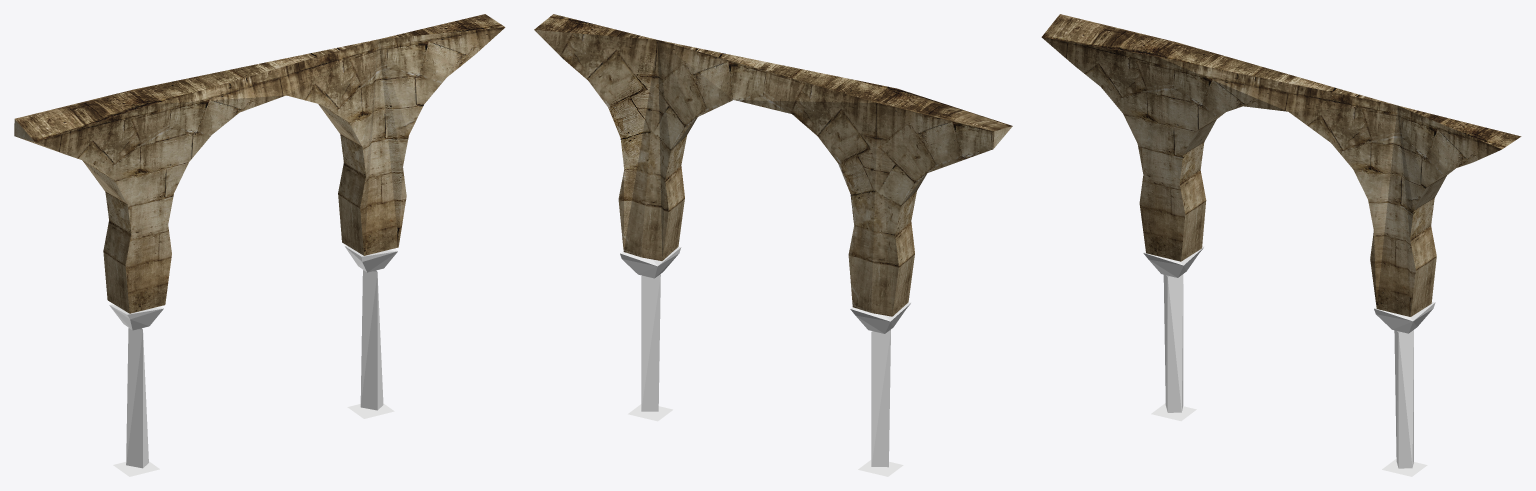
File: desert_ruins_h6_LOD1.fbx
3 views of the same model, side by side, from view 1: azimuth 30°, elevation 25°; view 2: azimuth 150°, elevation 25°; view 3: azimuth 330°, elevation 25° (orthographic). The views are drawn at different scales.
Visible parts, largest first — view 1: Default_Layer; view 2: Default_Layer; view 3: Default_Layer.
Boxes of the visible parts, x1,y1,x2,y2 form: Default_Layer: (14, 14, 505, 476); Default_Layer: (534, 14, 1012, 476); Default_Layer: (1041, 14, 1521, 476).
Bounding box in the file's own units: 172 × 131 × 18.37.
